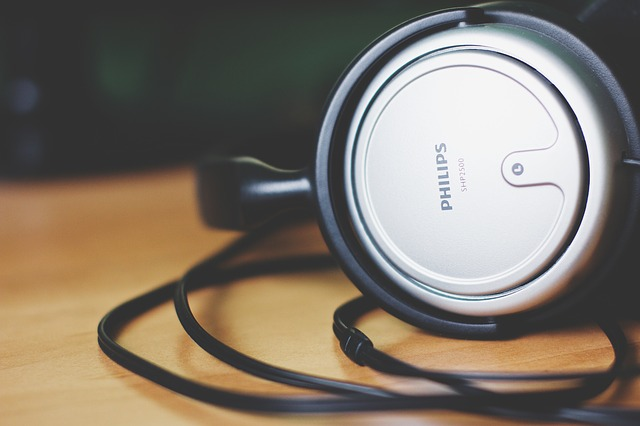headphones: (197, 1, 640, 341)
